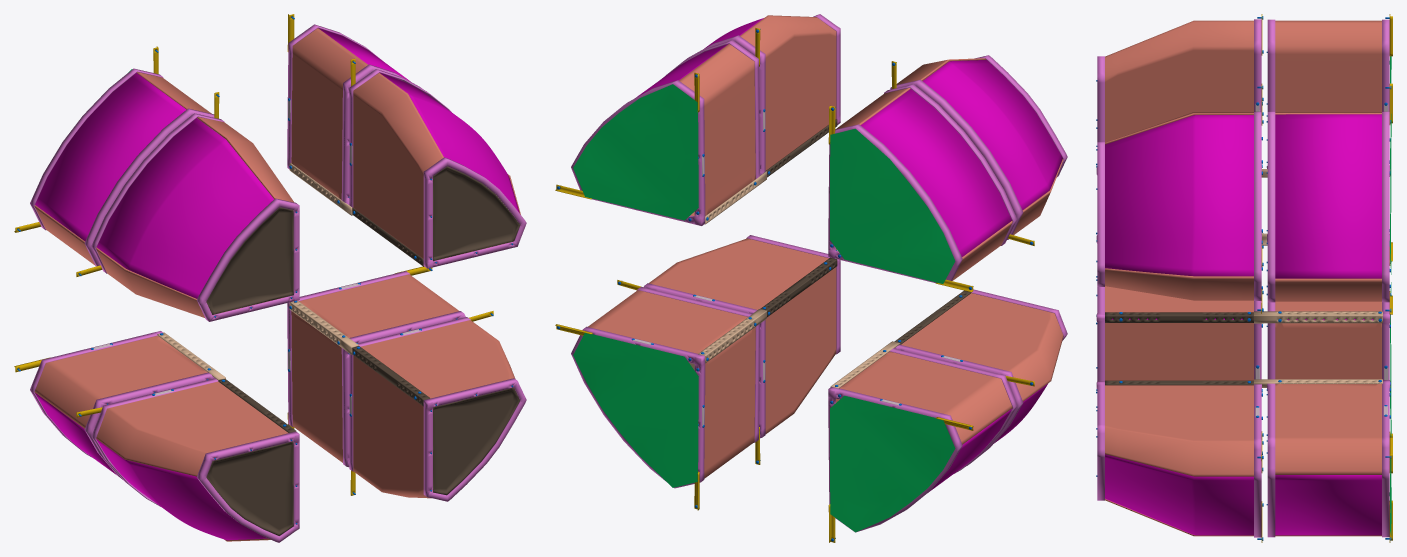
Rendered from Boxes.fbx.
The picture shows the model from 3 angles, left to right: view 1: azimuth 30°, elevation 25°; view 2: azimuth 150°, elevation 25°; view 3: azimuth 270°, elevation 25°; orthographic projection. The views are drawn at different scales.
Visible parts, largest first — view 1: BottomWall.006, SideWall.015, BottomWall.005, SideWall.004, SideWall.014, SideWall.011, SideWall.001, SideWall.012, SideWall.010, Back wall_2.001, Back wall_2.003, Back wall_2.004 (+29 smaller); view 2: Rag.003, Rag.001, Rag, Rag.002, BottomWall.005, SideWall.015, BottomWall.006, SideWall.004, SideWall.014, SideWall.011, SideWall.001, SideWall.012 (+24 smaller); view 3: BottomWall, BottomWall.007, SideWall.007, SideWall.012, SideWall.006, SideWall.009, SideWall.003, BottomWall.004, BottomWall.003, SideWall.002, SideWall, SideWall.013 (+23 smaller).
Boxes of the visible parts, left/top/right/bottom form: BottomWall.006: left=96, top=118, right=273, bottom=298; SideWall.015: left=353, top=73, right=443, bottom=258; BottomWall.005: left=35, top=73, right=186, bottom=241; SideWall.004: left=96, top=381, right=288, bottom=476; SideWall.014: left=291, top=28, right=367, bottom=199; SideWall.011: left=353, top=355, right=431, bottom=498; SideWall.001: left=34, top=336, right=207, bottom=428; SideWall.012: left=360, top=320, right=515, bottom=398; SideWall.010: left=291, top=311, right=342, bottom=462; Back wall_2.001: left=206, top=441, right=293, bottom=535; Back wall_2.003: left=206, top=207, right=293, bottom=314; Back wall_2.004: left=433, top=166, right=519, bottom=260; Rag.003: left=830, top=128, right=955, bottom=283; Rag.001: left=830, top=395, right=955, bottom=532; Rag: left=573, top=84, right=698, bottom=220; Rag.002: left=573, top=333, right=698, bottom=487; BottomWall.005: left=860, top=89, right=1011, bottom=256; SideWall.015: left=740, top=15, right=836, bottom=170; BottomWall.006: left=923, top=60, right=1062, bottom=209; SideWall.004: left=901, top=293, right=1063, bottom=401; SideWall.014: left=679, top=44, right=755, bottom=215; SideWall.011: left=765, top=267, right=836, bottom=433; SideWall.001: left=840, top=351, right=1012, bottom=444; SideWall.012: left=649, top=238, right=828, bottom=309; BottomWall: left=1105, top=115, right=1253, bottom=276; BottomWall.007: left=1275, top=114, right=1381, bottom=278; SideWall.007: left=1105, top=20, right=1253, bottom=142; SideWall.012: left=1105, top=385, right=1253, bottom=476; SideWall.006: left=1275, top=20, right=1381, bottom=112; SideWall.009: left=1275, top=384, right=1381, bottom=474; SideWall.003: left=1105, top=323, right=1253, bottom=380; BottomWall.004: left=1105, top=454, right=1253, bottom=535; BottomWall.003: left=1275, top=475, right=1381, bottom=535; SideWall.002: left=1275, top=323, right=1381, bottom=379; SideWall: left=1105, top=268, right=1253, bottom=300; SideWall.013: left=1275, top=278, right=1381, bottom=301.
Bounding box in the file's own units: 208 × 208 × 122.
